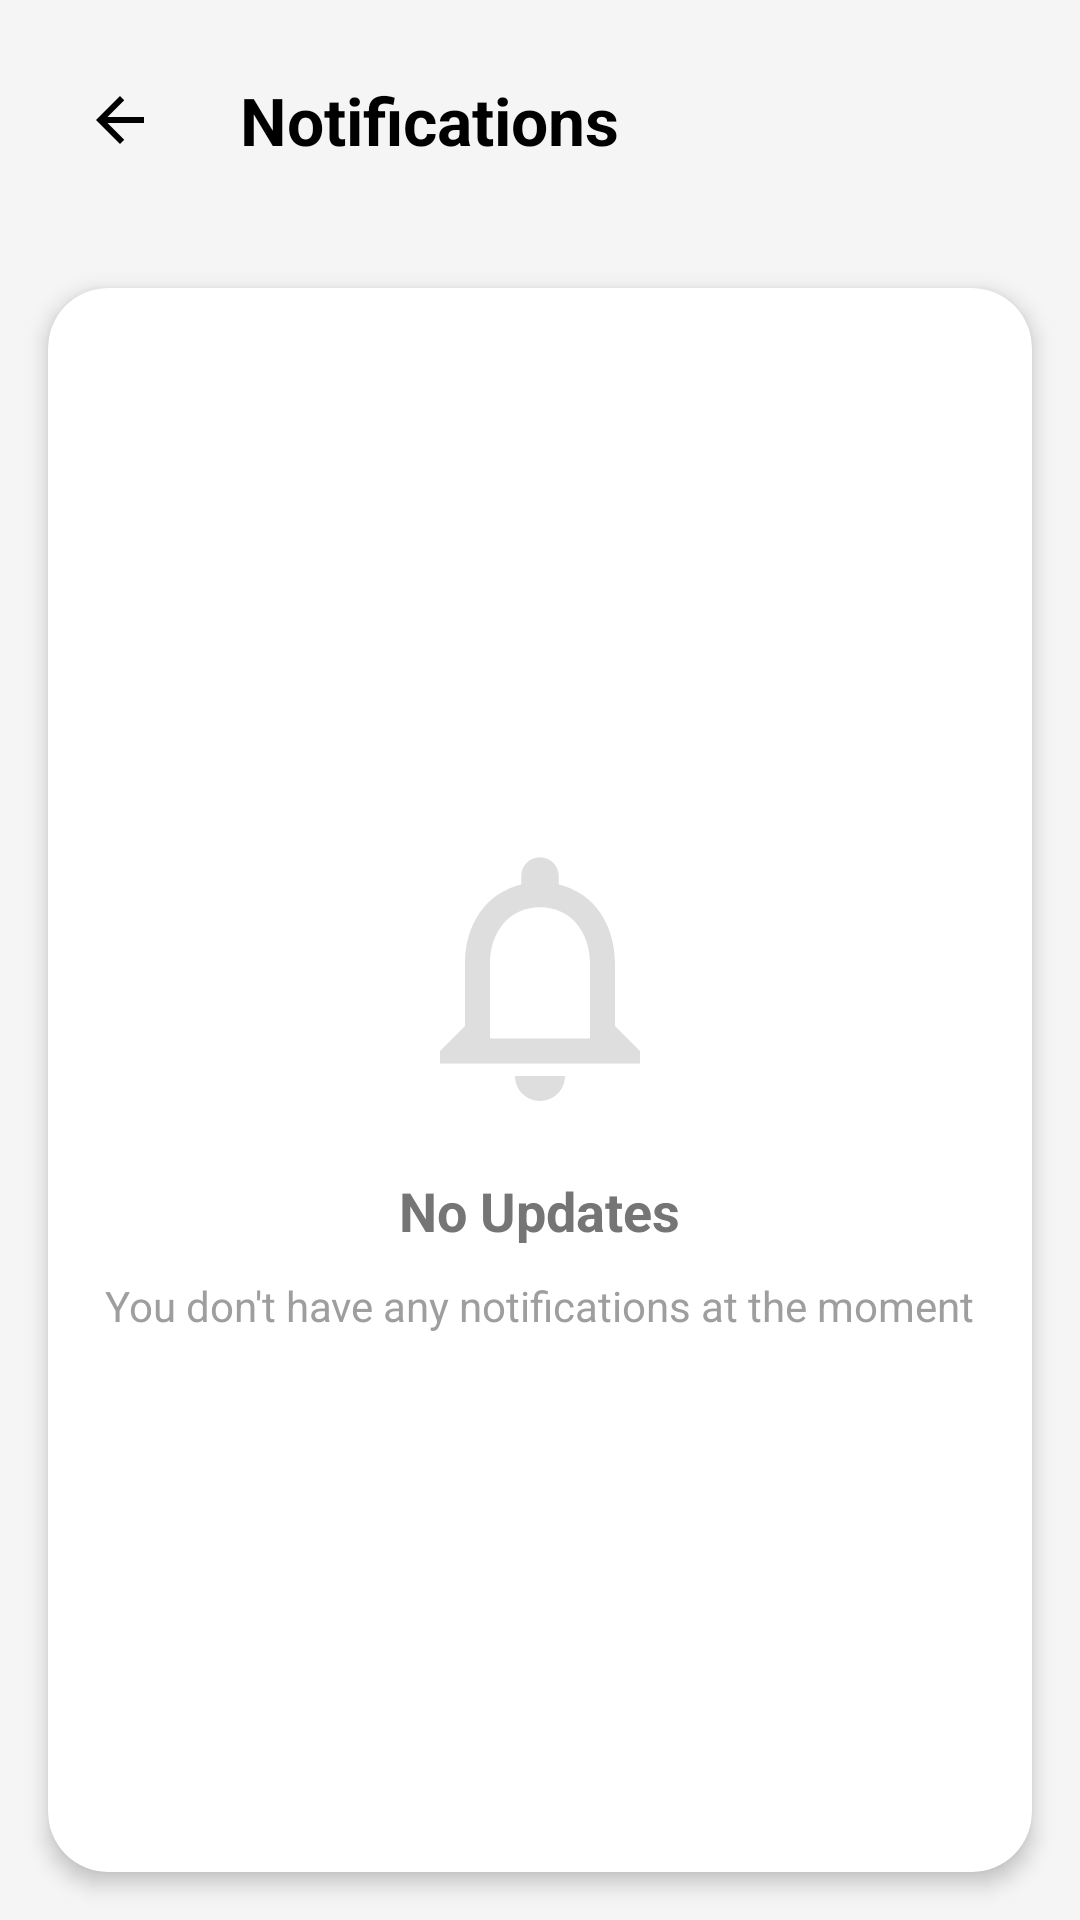

Icons on this 1080 × 1920 Android screen, each with the point to tap as (x,y):
Back: (120,120)
No Notifications: (540,979)
